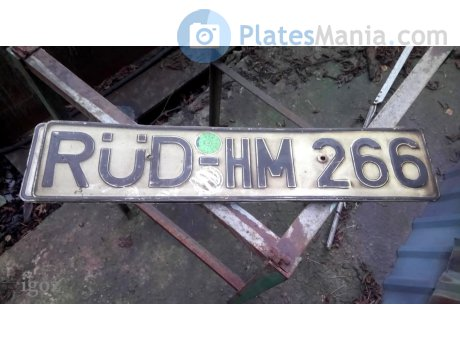License Plates: (49, 123, 426, 193)
